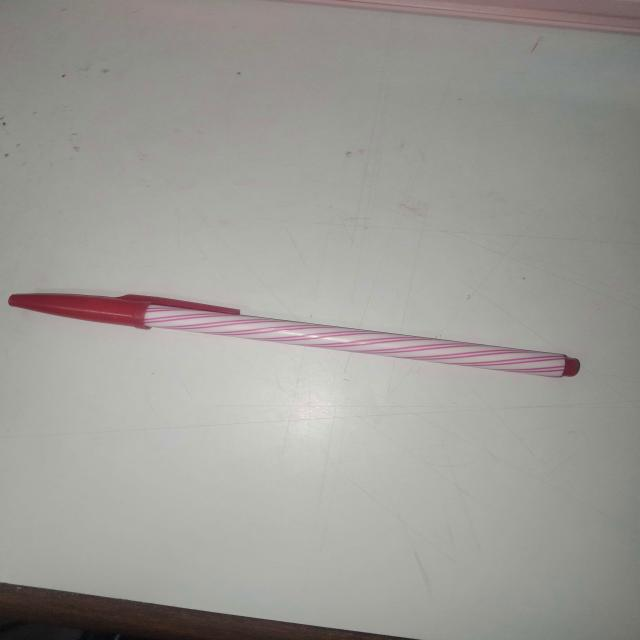pen_pencil: (9, 263, 624, 430)
